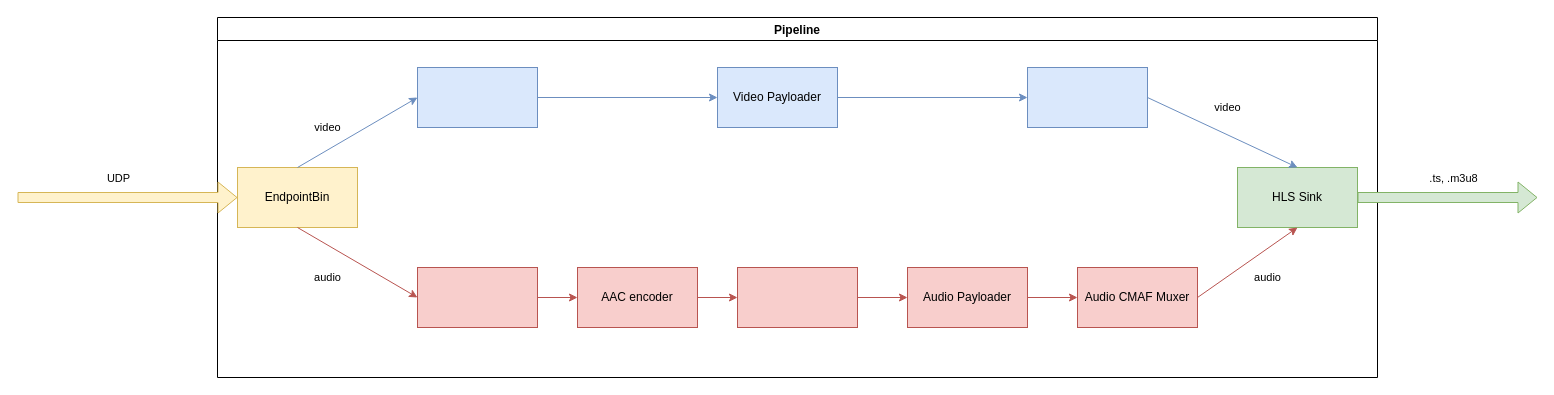
Image size: 1554x395. Some labels were removed from this diagram. Each missing label, with the centre of its shape:
AAC parser: (797,297)
OPUS decoder: (477,297)
Video CMAF Muxer: (1087,97)
Video Parser: (477,97)
